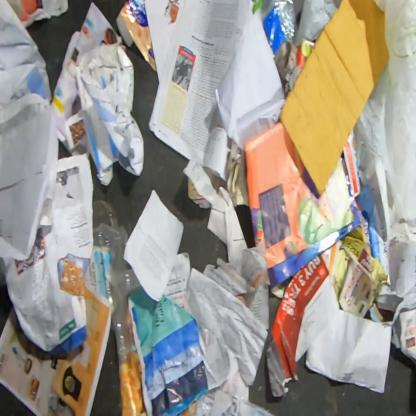cardboard: (279, 0, 390, 196), (69, 42, 145, 187)
soft_plastic: (354, 0, 415, 228), (93, 199, 142, 366), (259, 0, 299, 60)
